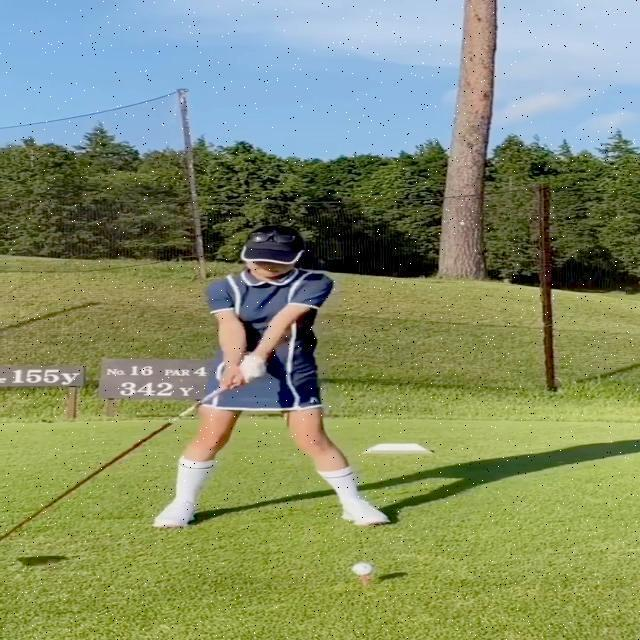GolfBall: (351, 563, 373, 576)
